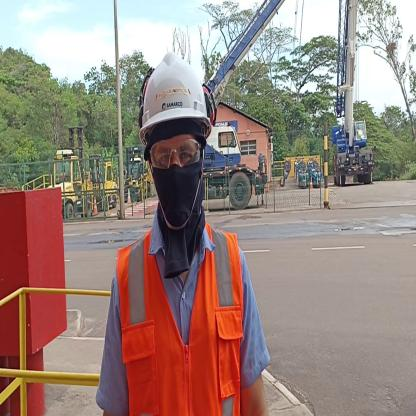Balaclava: (143, 122, 208, 240)
Capacete: (140, 51, 208, 122)
colete: (122, 245, 242, 416)
